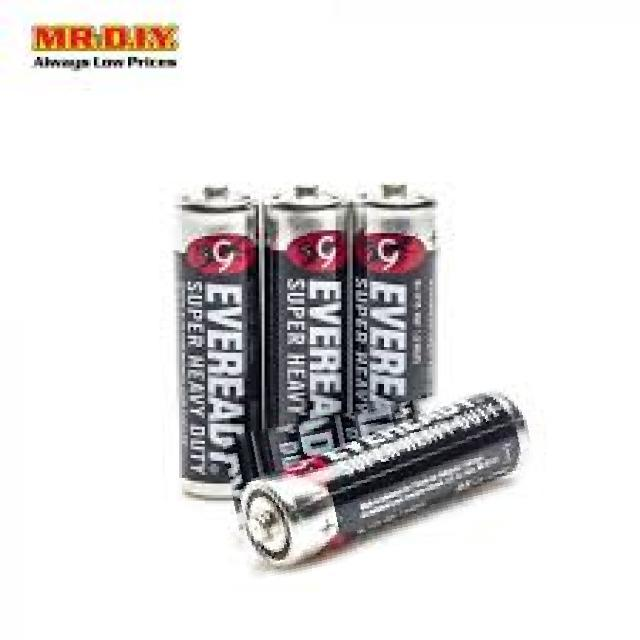Battery: (228, 378, 550, 586), (164, 175, 266, 496), (256, 176, 354, 452), (346, 176, 452, 428)
